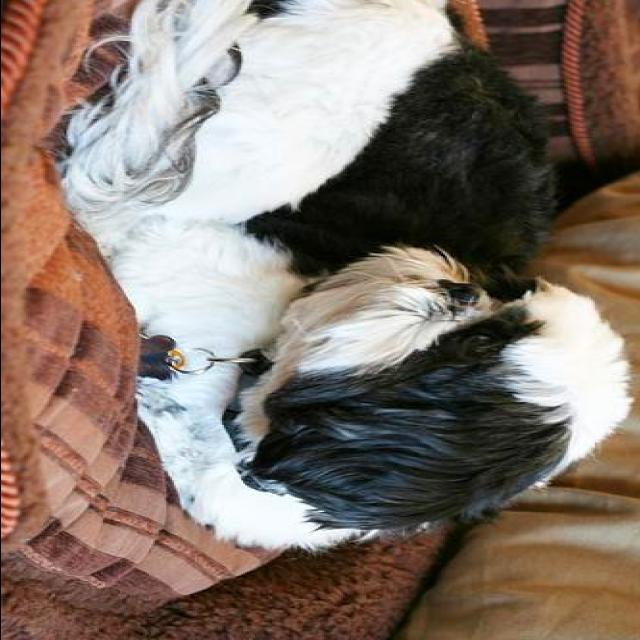shih_tzu: (54, 2, 630, 550)
